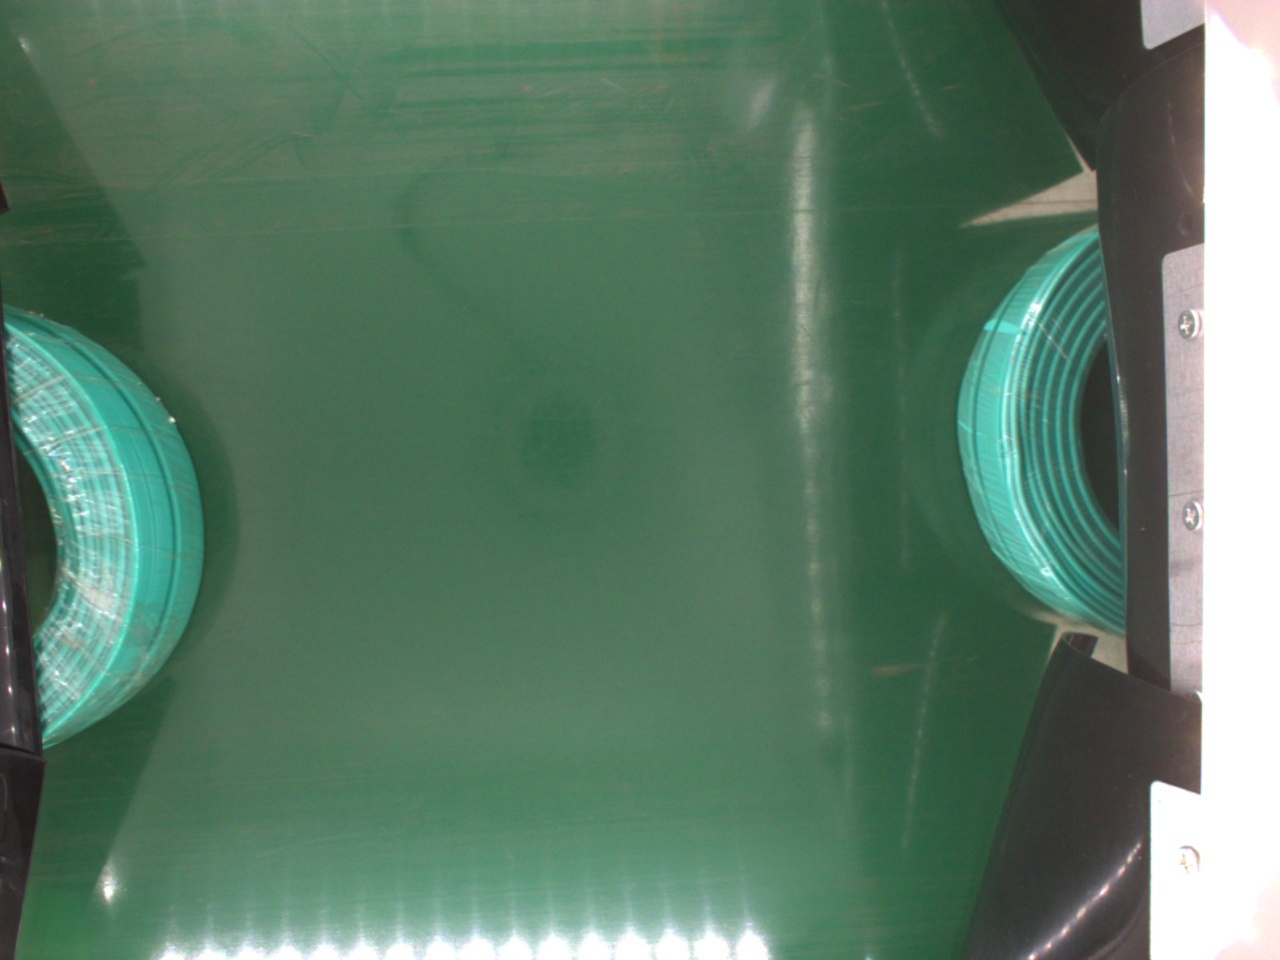green: (5, 306, 214, 764), (959, 223, 1138, 642)
